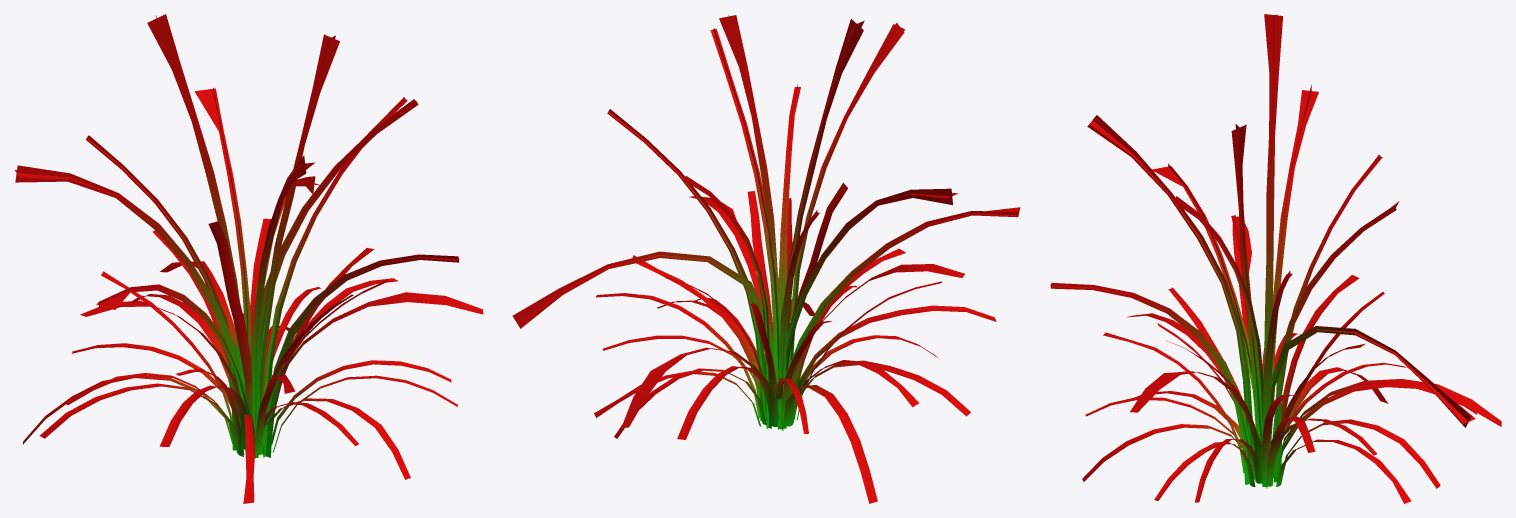
Rendered from White Windflower_LOD1_Var4_sktlN.fbx.
3 renders of one model, left to right at view 1: azimuth 30°, elevation 25°; view 2: azimuth 150°, elevation 25°; view 3: azimuth 270°, elevation 25°, orthographic. The views are drawn at different scales.
Visible parts, largest first — view 1: _a088_Var4_LOD1; view 2: _a088_Var4_LOD1; view 3: _a088_Var4_LOD1.
Boxes of the visible parts, box(x1,y1,x2,y2) form: _a088_Var4_LOD1: box(15, 14, 483, 503); _a088_Var4_LOD1: box(512, 15, 1020, 503); _a088_Var4_LOD1: box(1050, 14, 1501, 503).
Bounding box in the file's own units: 66.86 × 74.85 × 71.65.
